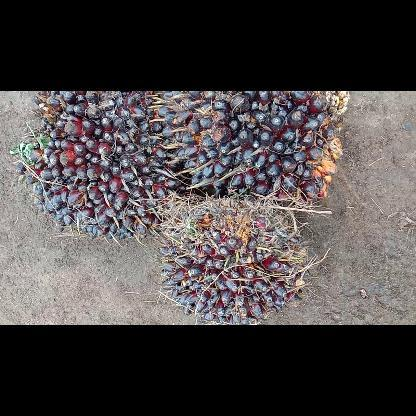TBS mentah: (11, 91, 193, 243), (153, 91, 351, 207), (157, 192, 311, 324)
